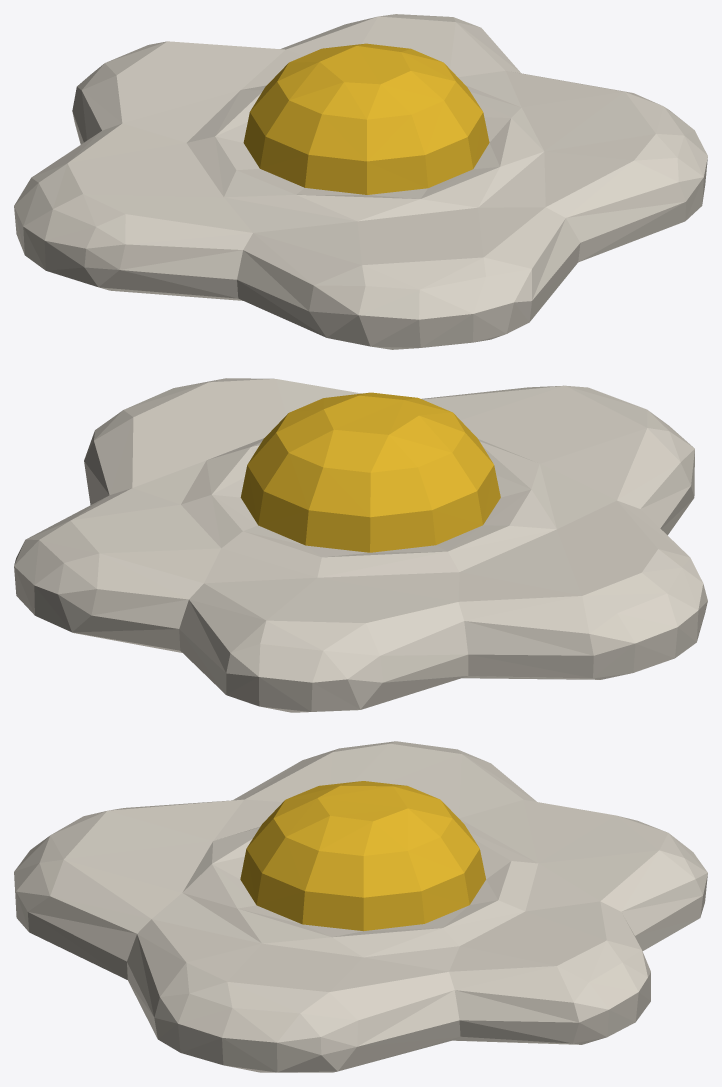
The model's file is FriedEgg.fbx.
The picture shows the model from 3 angles, top to bottom: view 1: azimuth 30°, elevation 25°; view 2: azimuth 150°, elevation 25°; view 3: azimuth 270°, elevation 25°; orthographic projection. The views are drawn at different scales.
Visible parts, largest first — view 1: FriedEgg; view 2: FriedEgg; view 3: FriedEgg.
Part boxes in pixels (box(x1,y1,x2,y2)): FriedEgg: box(14, 14, 707, 349); FriedEgg: box(14, 378, 707, 712); FriedEgg: box(14, 741, 707, 1072).
Size of the model in its own units: 0.1487 by 0.149 by 0.034.
